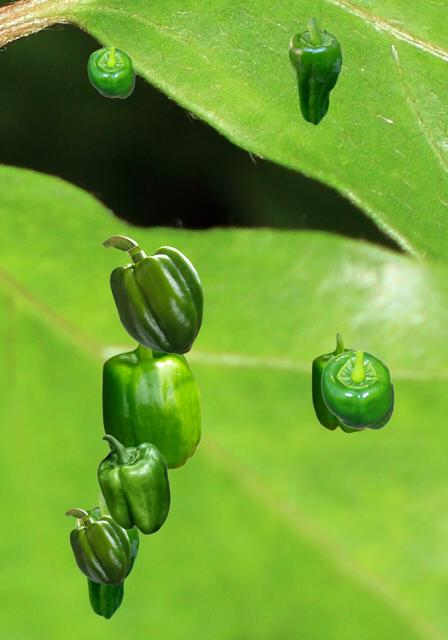bell_pepper: (101, 344, 201, 470), (101, 235, 202, 353), (75, 492, 138, 618), (96, 434, 170, 534), (320, 349, 394, 429), (288, 18, 341, 124), (311, 332, 365, 432), (64, 508, 129, 584), (87, 46, 134, 97)
